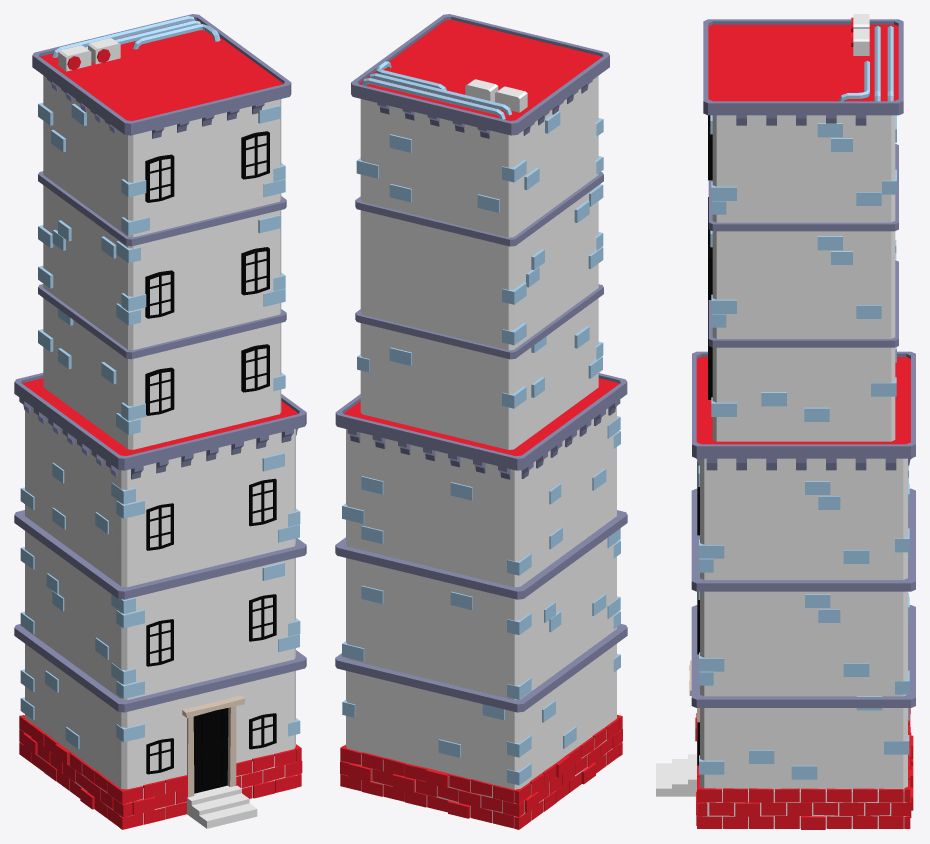
The model's file is building_quaternius_6Story_Stack.glb.
3 renders of one model, left to right at view 1: azimuth 30°, elevation 25°; view 2: azimuth 150°, elevation 25°; view 3: azimuth 270°, elevation 25°, orthographic. The views are drawn at different scales.
Bounding box in the file's own units: 2.16 × 7.8 × 2.5.
Materials: 1 (1 with a texture image).
